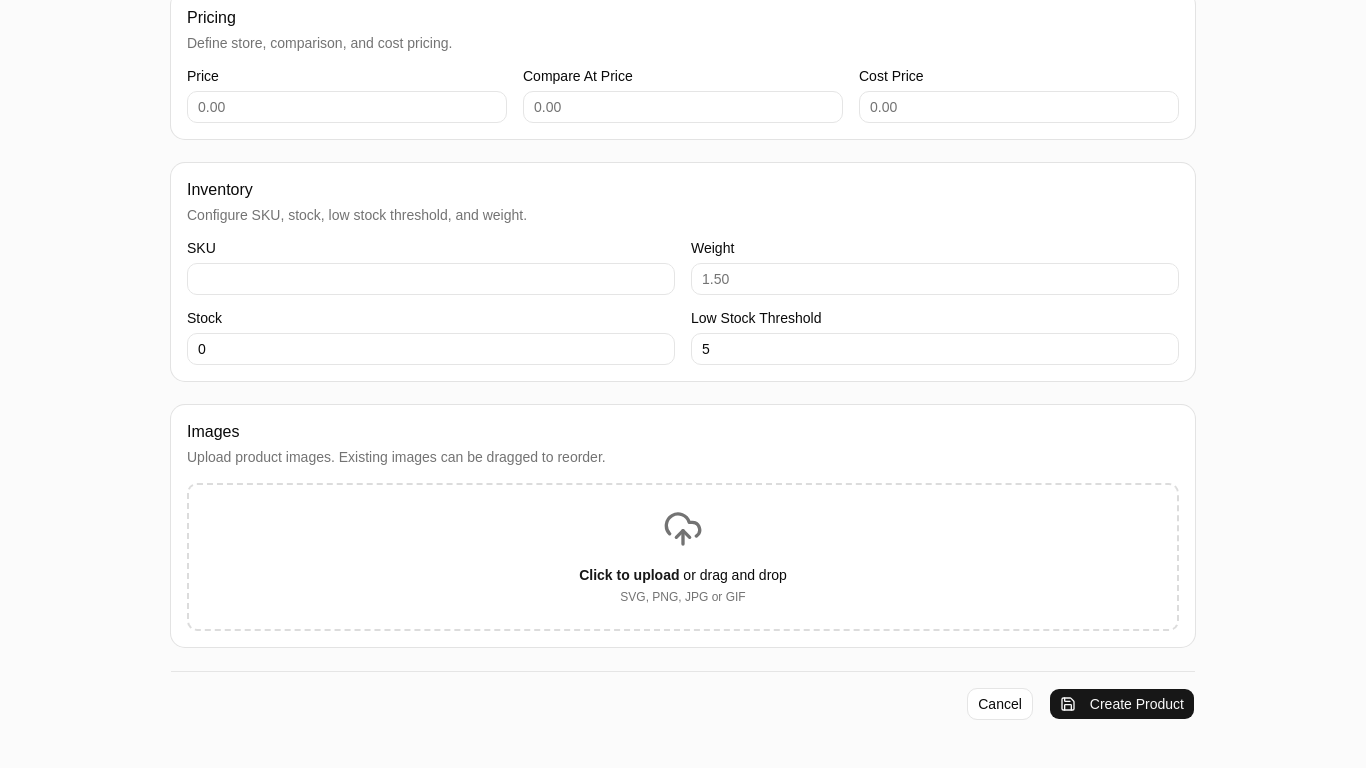
Scenario: Phase 12: Products Management › Product form blocks submission when name, price, or sku is empty
(page scrolled)
Step 1. Click the button "Create Product" → [1122, 704], box [1049,688,1195,720]
(page scrolled)
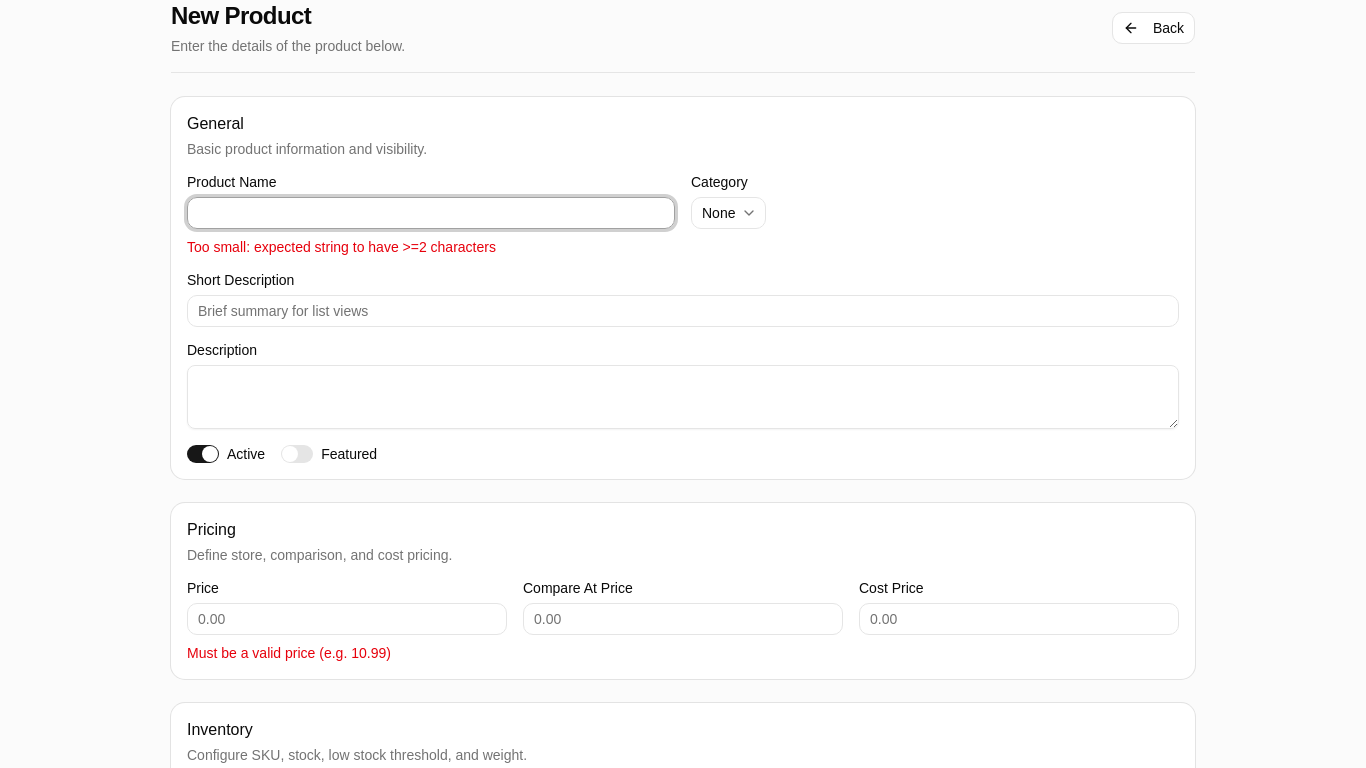
Expected: the text "expected string to have >=2 characters" is shown, [187,239,496,255]
Expected: the text "Must be a valid price (e.g. 10.99)" is shown, [187,645,391,661]
